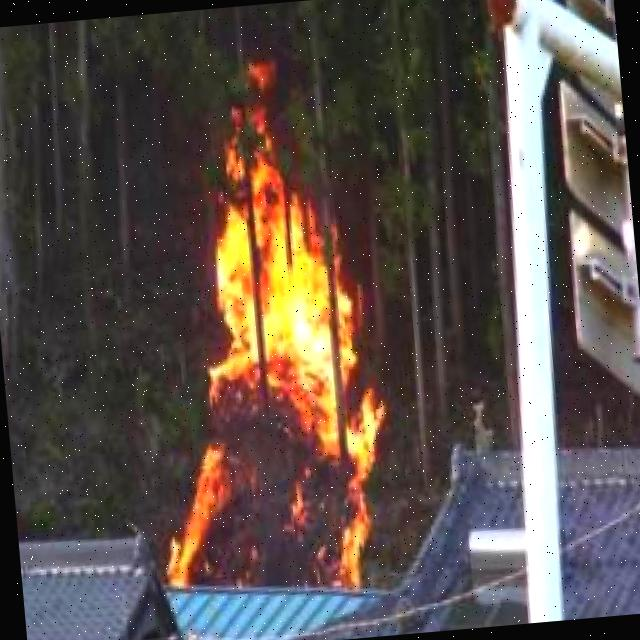fire: (142, 86, 394, 590)
